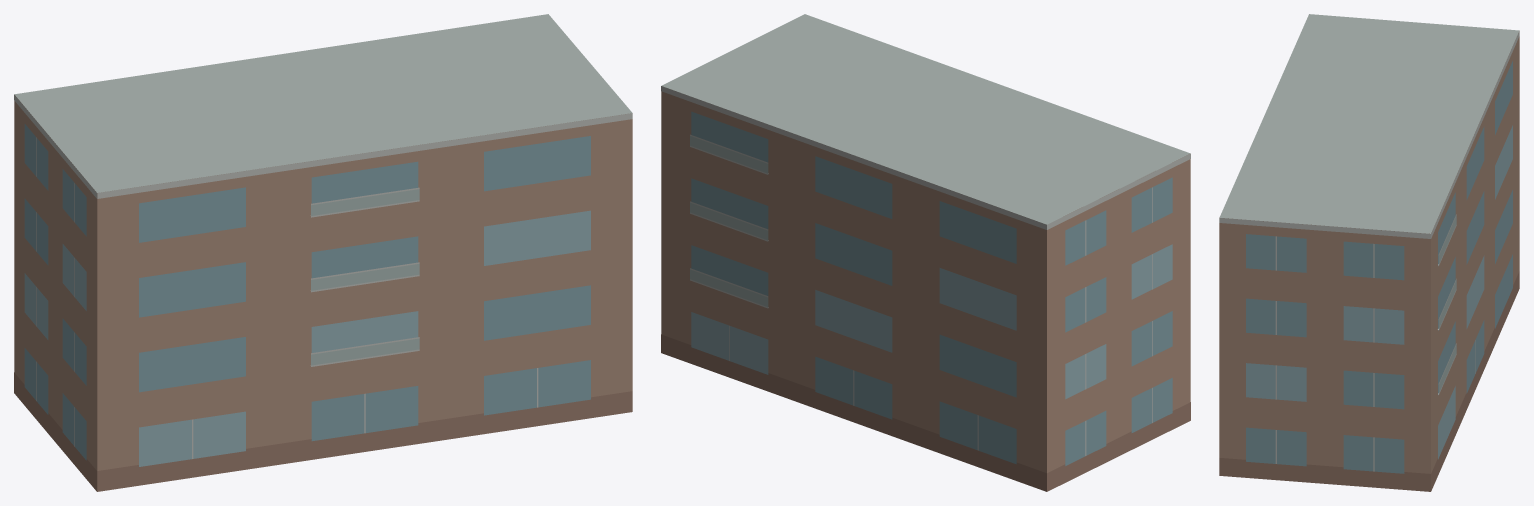
Rendered from survey-upis-32702612.glb.
The picture shows the model from 3 angles, left to right: view 1: azimuth 30°, elevation 25°; view 2: azimuth 150°, elevation 25°; view 3: azimuth 270°, elevation 25°; orthographic projection. The views are drawn at different scales.
Parts seen in each view (by area): view 1: survey-upis-32702612.tmp; view 2: survey-upis-32702612.tmp; view 3: survey-upis-32702612.tmp.
Boxes of the visible parts, bbox=[...] form: survey-upis-32702612.tmp: bbox=[14, 14, 632, 491]; survey-upis-32702612.tmp: bbox=[661, 14, 1190, 491]; survey-upis-32702612.tmp: bbox=[1219, 14, 1519, 491].
Size of the model in its own units: 22.12 by 12.1 by 12.77.
